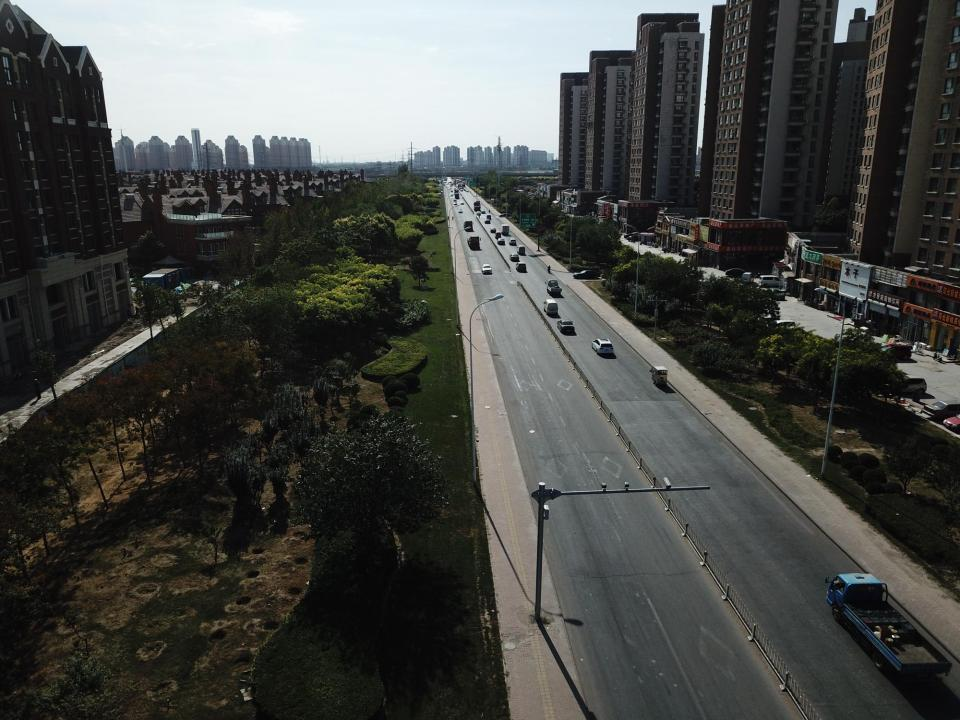car: (922, 399, 960, 420), (888, 376, 928, 394), (881, 344, 910, 357), (592, 338, 612, 356), (572, 269, 602, 281), (558, 317, 574, 335), (767, 289, 784, 297), (481, 264, 492, 274), (515, 263, 527, 272), (498, 213, 512, 218), (518, 244, 526, 252), (510, 251, 518, 259), (507, 237, 515, 244), (498, 237, 506, 243), (494, 231, 501, 237), (490, 226, 497, 232), (484, 219, 491, 224), (486, 214, 492, 219), (476, 211, 481, 216), (459, 208, 463, 214), (482, 209, 486, 214), (453, 198, 458, 202), (460, 201, 464, 205), (454, 202, 458, 205)
truck: (824, 572, 952, 681), (545, 278, 562, 292), (468, 234, 481, 251), (462, 220, 475, 230), (500, 224, 511, 234), (473, 202, 480, 211), (476, 200, 482, 206), (453, 190, 459, 196), (454, 194, 460, 199)
van: (758, 275, 784, 287), (544, 299, 558, 317), (723, 268, 745, 276)
